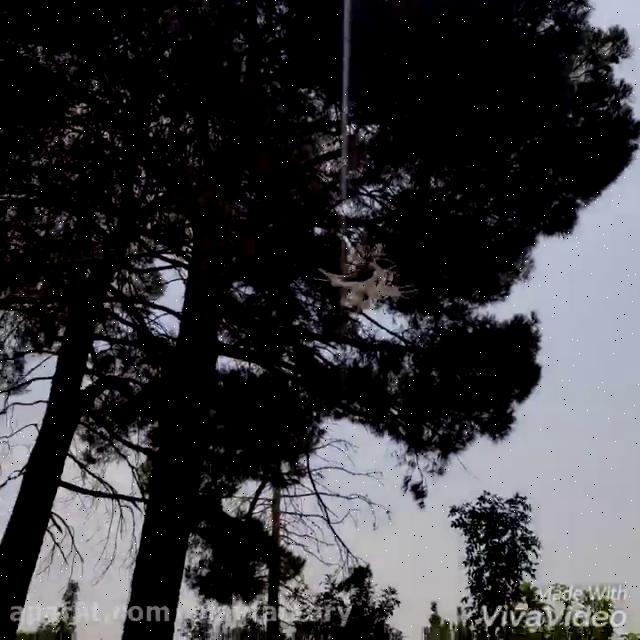drone: (323, 258, 415, 312)
